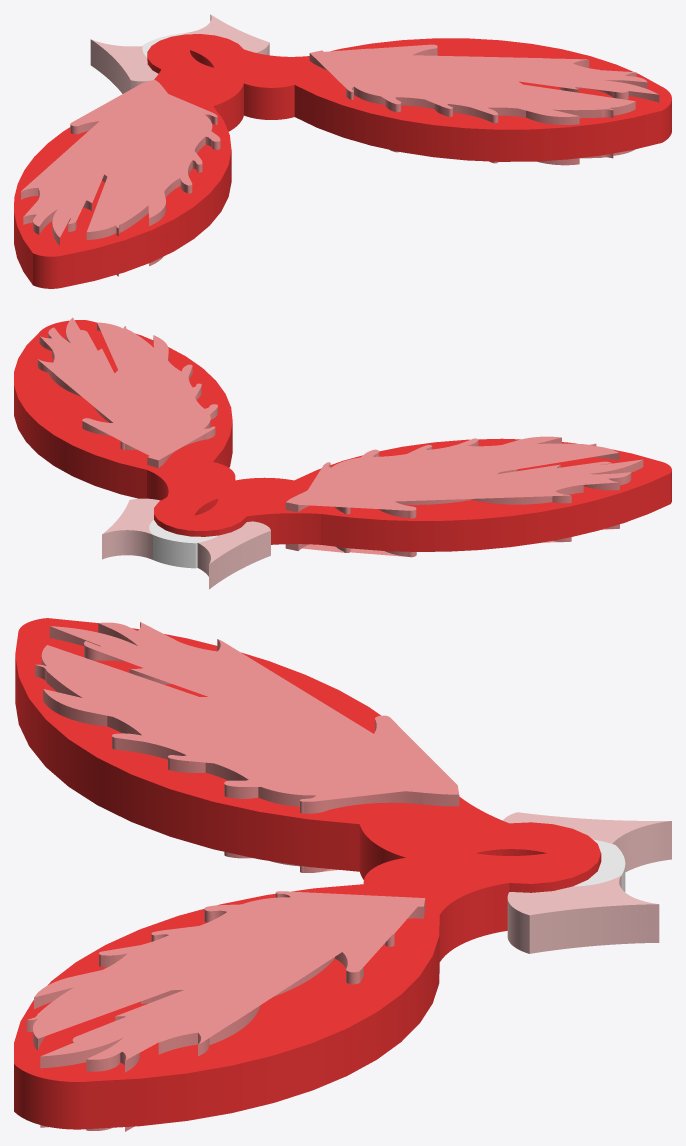
File: paru-paru katak.fbx
3 views of the same model, one above another, from view 1: azimuth 30°, elevation 25°; view 2: azimuth 150°, elevation 25°; view 3: azimuth 270°, elevation 25° (orthographic). The views are drawn at different scales.
Visible parts, largest first — view 1: Group1, Group2, Group3; view 2: Group1, Group2, Group3; view 3: Group1, Group2, Group3.
Boxes of the visible parts, box(x1,y1,x2,y2) form: Group1: box(14, 14, 671, 288); Group2: box(21, 79, 220, 276); Group3: box(309, 44, 659, 165); Group1: box(14, 320, 671, 589); Group2: box(285, 436, 643, 557); Group3: box(37, 317, 217, 467); Group1: box(14, 618, 671, 1129); Group2: box(35, 622, 459, 872); Group3: box(26, 891, 425, 1131).
Bounding box in the file's own units: 33.49 × 2.4 × 20.07.
